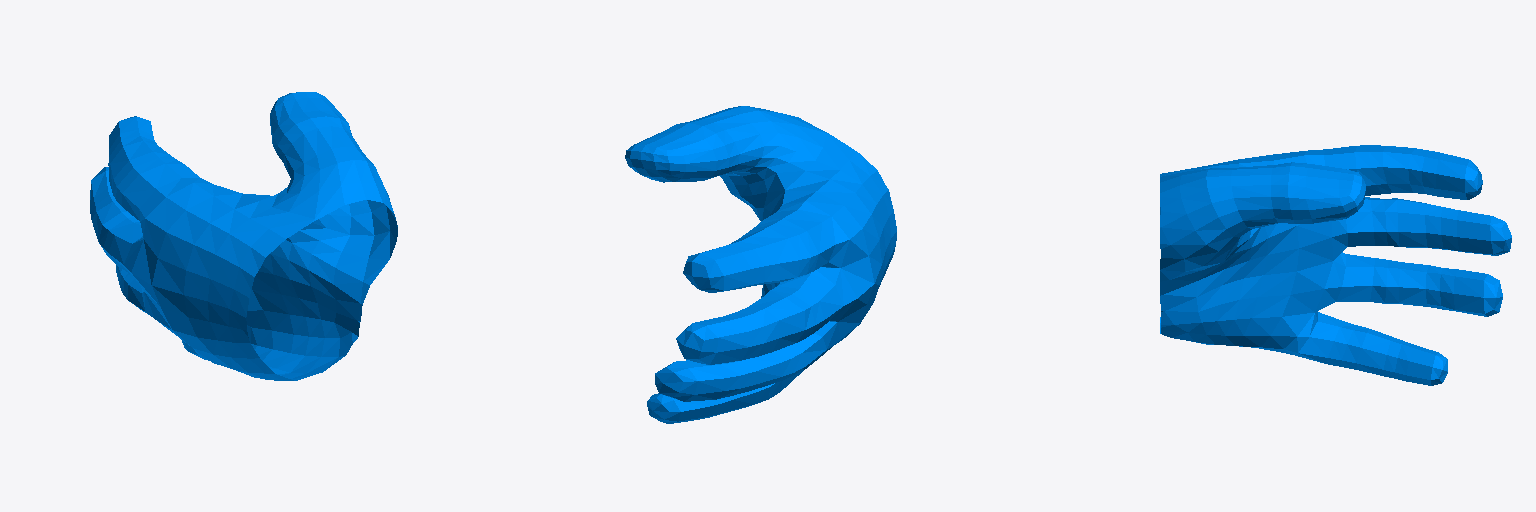
The picture shows the model from 3 angles: view 1: azimuth 30°, elevation 25°; view 2: azimuth 150°, elevation 25°; view 3: azimuth 270°, elevation 25°; orthographic projection.
Visible parts, largest first — view 1: hand_left; view 2: hand_left; view 3: hand_left.
Part boxes in pixels (left/top/right/bottom): hand_left: left=90, top=92, right=397, bottom=380; hand_left: left=625, top=106, right=896, bottom=423; hand_left: left=1160, top=145, right=1511, bottom=385.
Size of the model in its own units: 0.0988 by 0.105 by 0.1856.
1 materials, 1 textured.